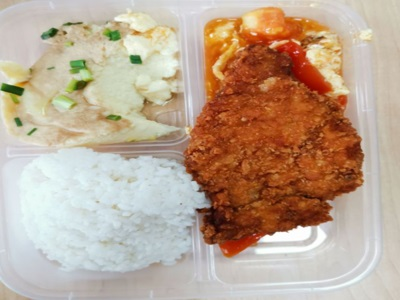jdg: (20, 25, 170, 142)
jp: (209, 78, 340, 230)
rice: (21, 160, 190, 267)
